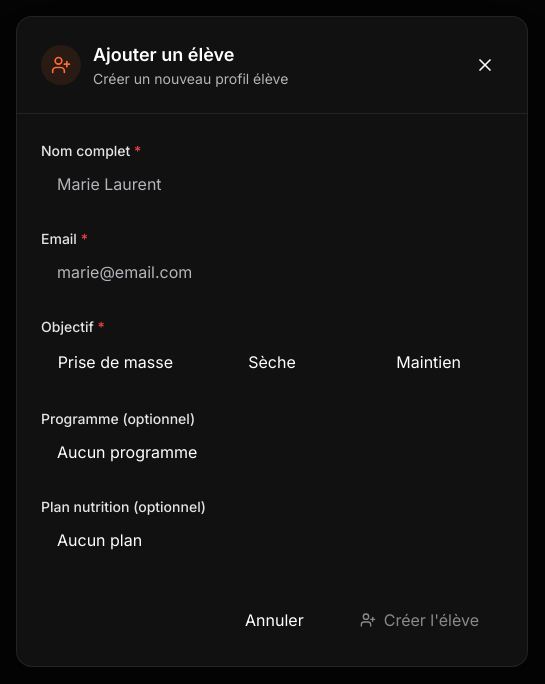
Scenario: AddStudentModal › form validation › submit button is enabled when both name and email are filled
The image size is (545, 684).
In the field with placeholder "Marie Laurent": (272, 184) [41,162,503,206], type "Jean Dupont"
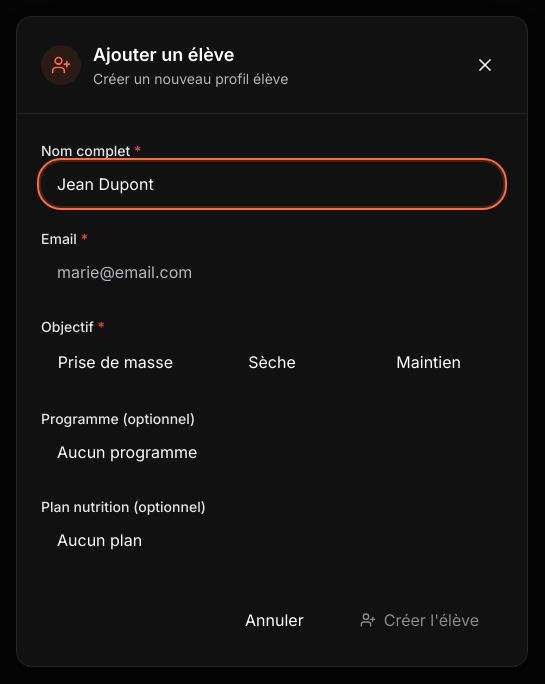
In the field with placeholder "marie@email.com": (272, 272) [41,250,503,294], type "jean@test.com"
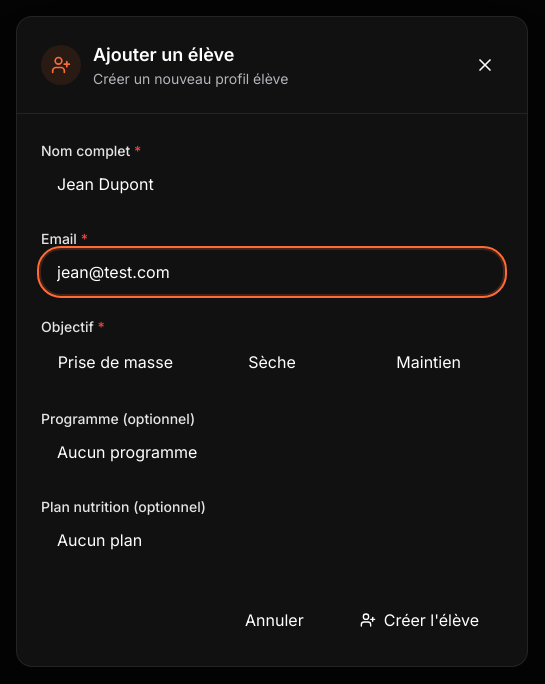
Check: the button "Créer l'élève" is enabled, box [336,598,503,642]
